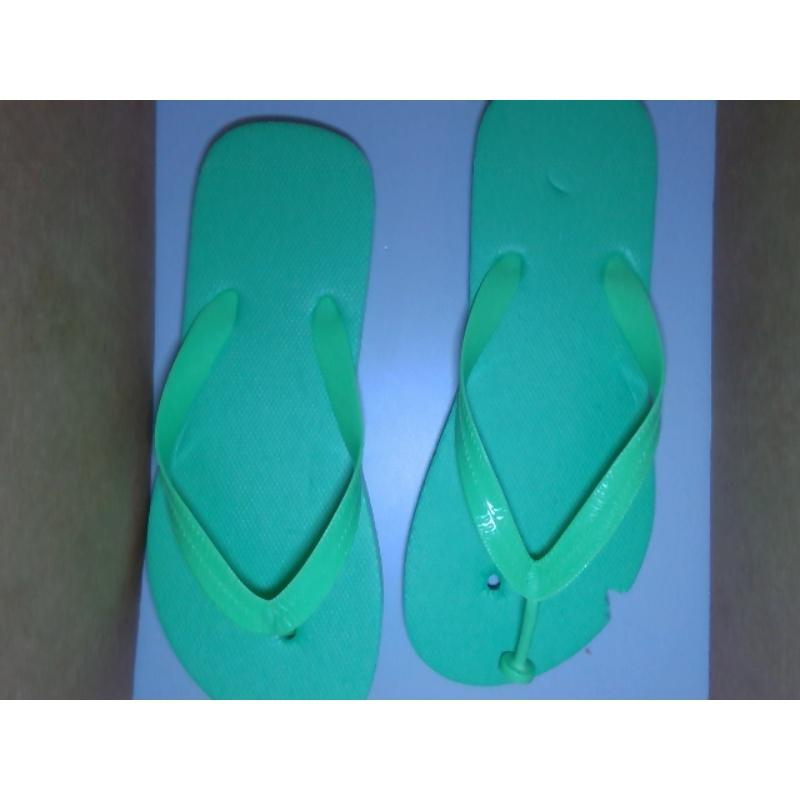chipped: (593, 573, 641, 634)
detached: (485, 623, 555, 690)
